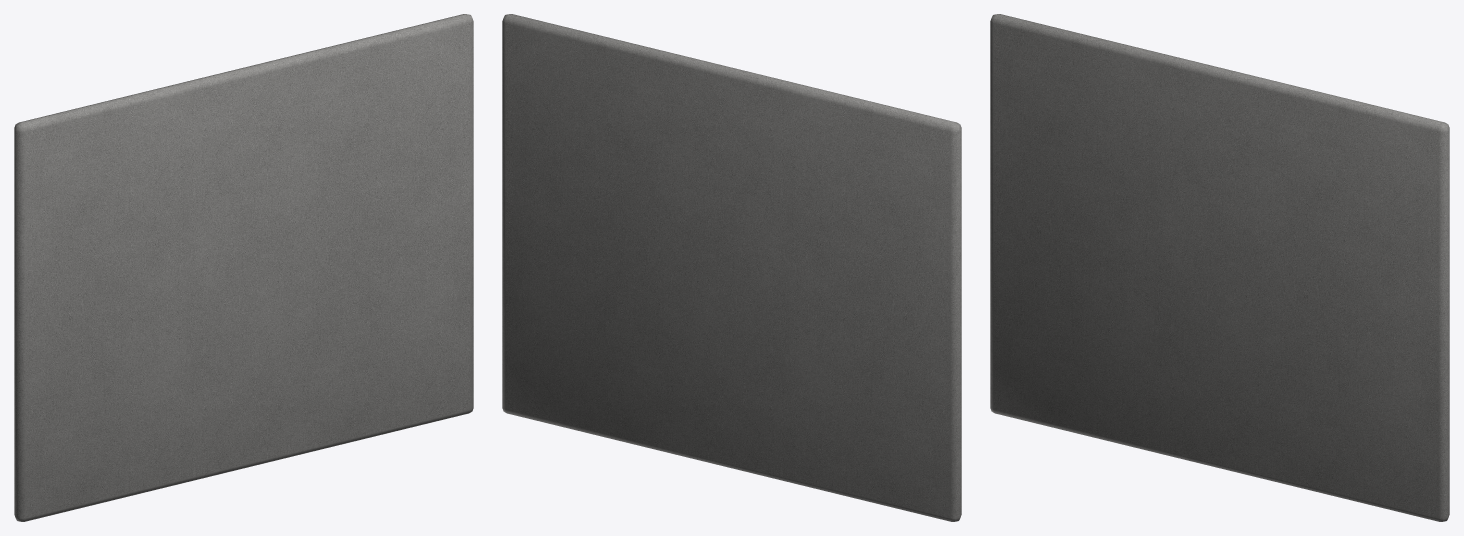
The model's file is partition.side-screen-fabric.glb.
The picture shows the model from 3 angles, left to right: view 1: azimuth 30°, elevation 25°; view 2: azimuth 150°, elevation 25°; view 3: azimuth 330°, elevation 25°; orthographic projection.
Visible parts, largest first — view 1: partition.side-screen-fabric.001; view 2: partition.side-screen-fabric.001; view 3: partition.side-screen-fabric.001.
Boxes of the visible parts, <box> form: partition.side-screen-fabric.001: <box>14,14,473,521</box>; partition.side-screen-fabric.001: <box>502,14,961,521</box>; partition.side-screen-fabric.001: <box>990,14,1449,521</box>.
Bounding box in the file's own units: 0.6 × 0.5 × 0.018.
Materials: 1 (1 with a texture image).
